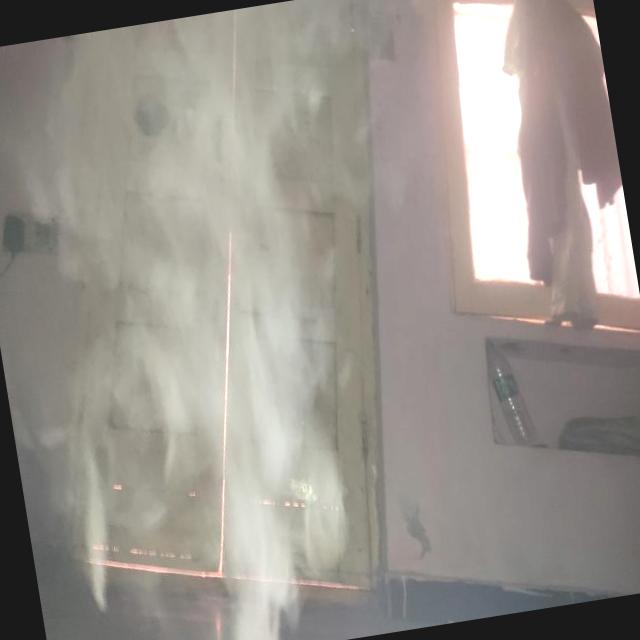smoke: (30, 163, 345, 640)
